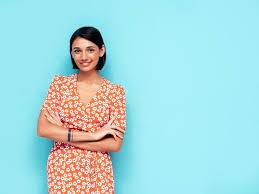Human: (31, 19, 132, 194)
